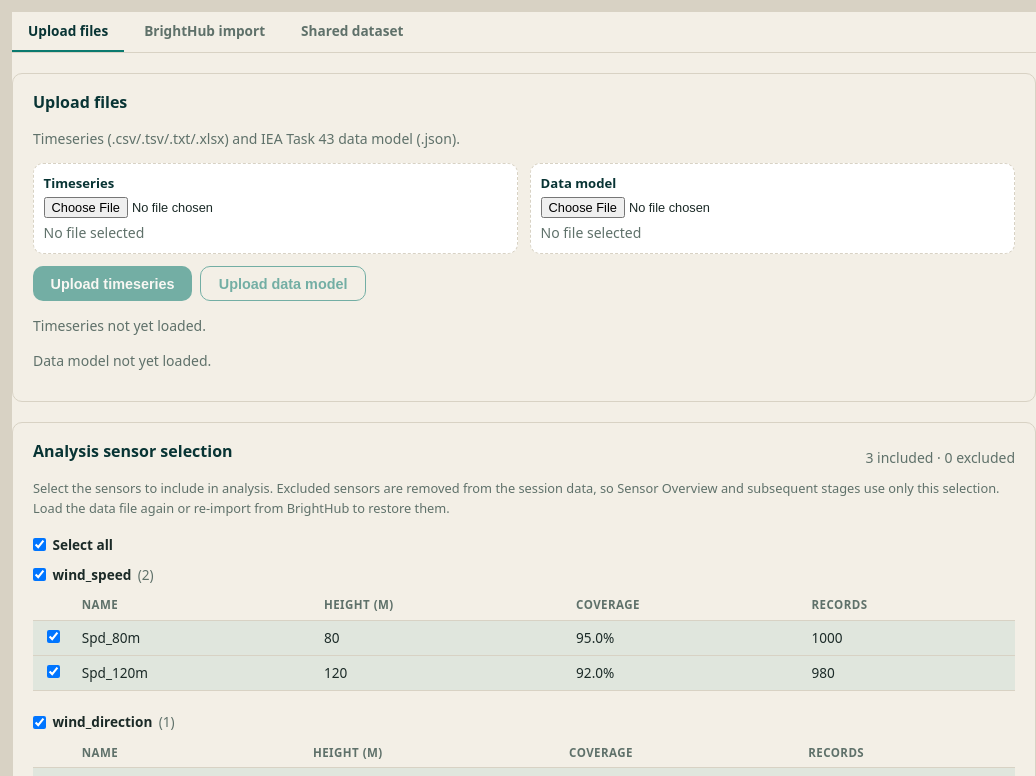
Test: DataLoadView › selects and clears all imported sensors from the top checkbox
Click the checkbox named "Select all sensors" at (40, 545), box [33,538,46,551]
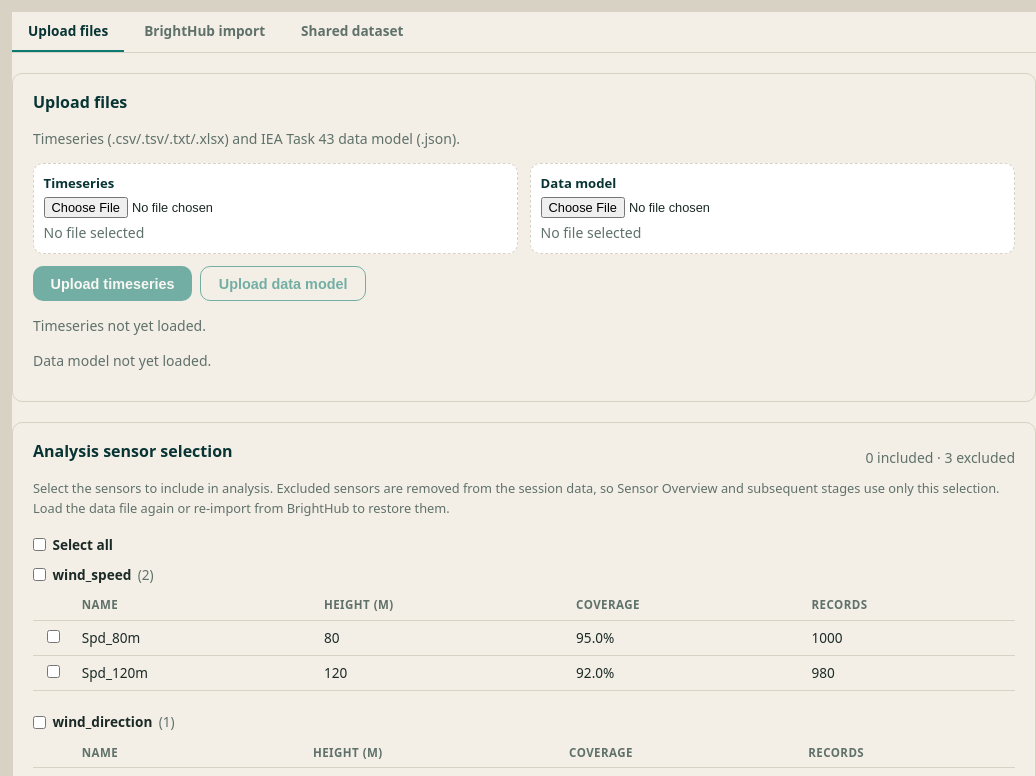
Expected: the checkbox named "Include Spd_80m" is not checked, [47,630,60,643]
Expected: the checkbox named "Include Spd_120m" is not checked, [47,665,60,678]
Click the checkbox named "Select all sensors" at (40, 545), box [33,538,46,551]
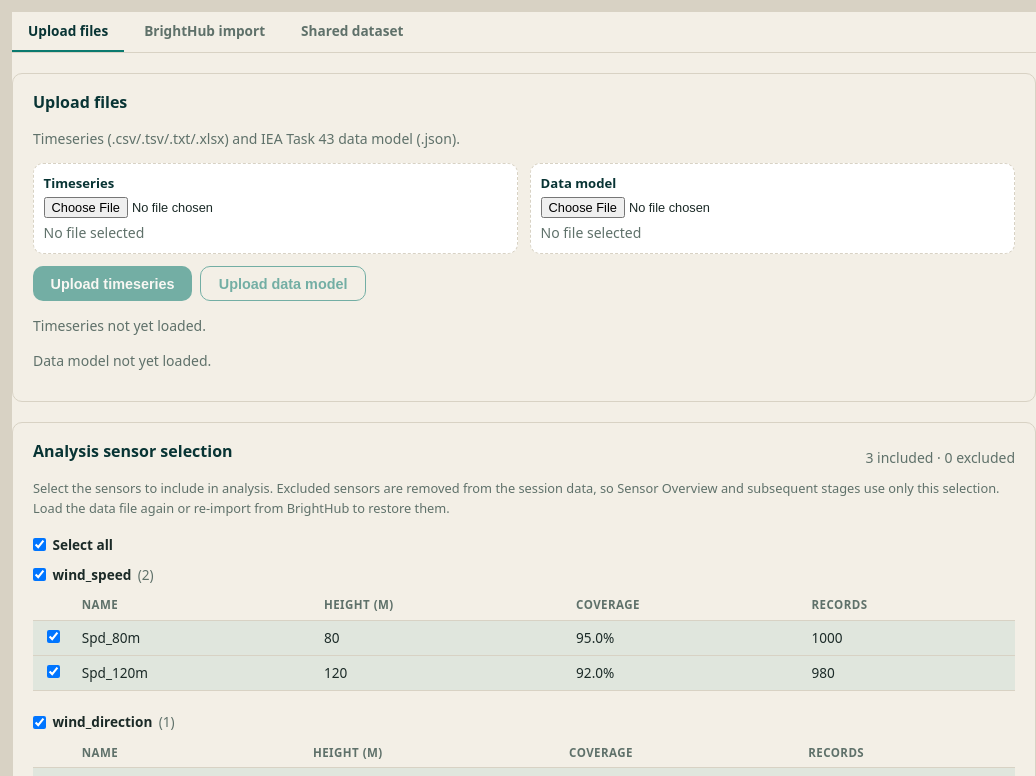
Expected: the checkbox named "Include Spd_80m" is checked, [47,630,60,643]
Expected: the checkbox named "Include Spd_120m" is checked, [47,665,60,678]
